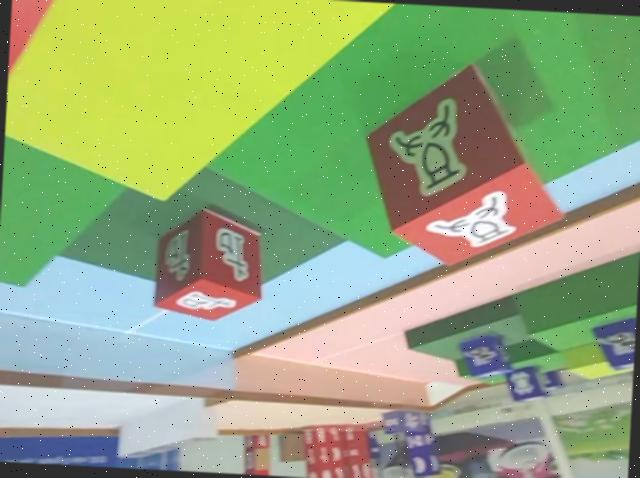R2 Real: (358, 56, 575, 276), (150, 205, 270, 328)
